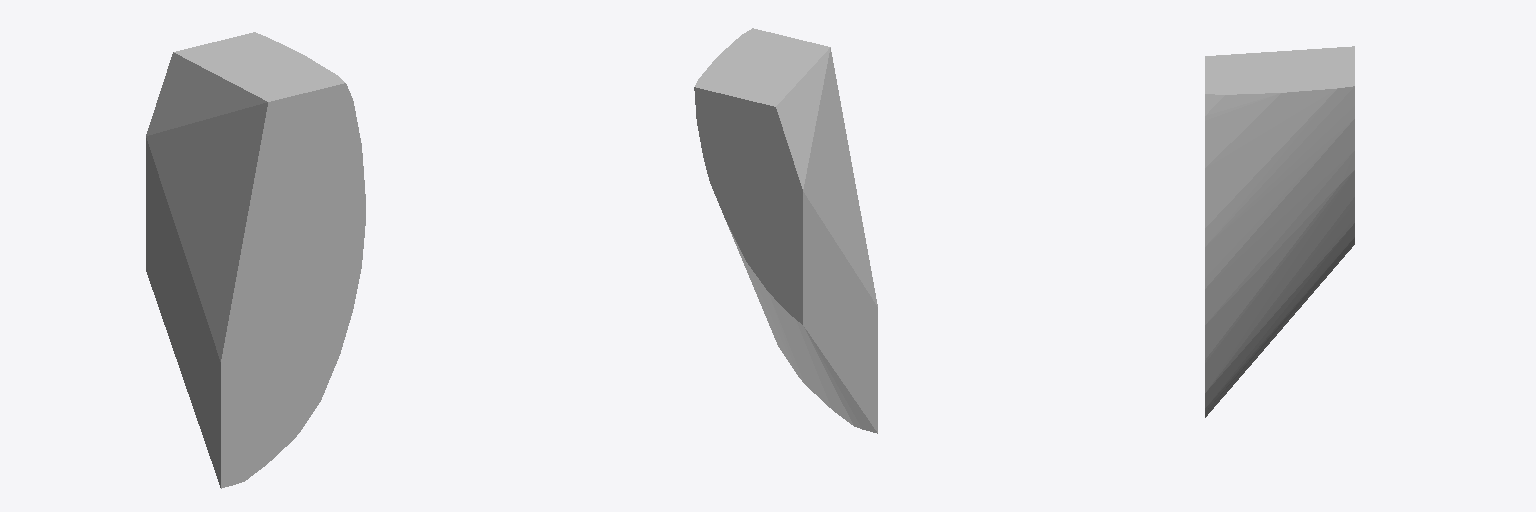
The model's file is phantom-elastrat_collision_431.obj.
3 views of the same model, side by side, from view 1: azimuth 30°, elevation 25°; view 2: azimuth 150°, elevation 25°; view 3: azimuth 270°, elevation 25° (orthographic).
Size of the model in its own units: 0.0034 by 0.0085 by 0.0031.